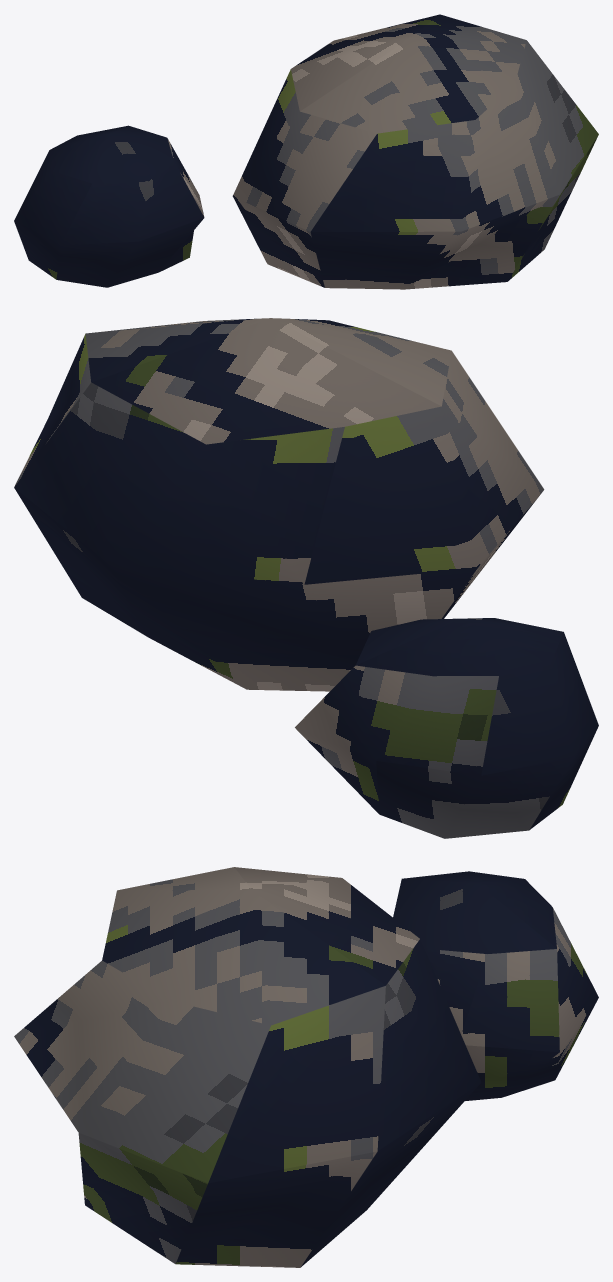
File: cave.boulder.glb
3 renders of one model, top to bottom at view 1: azimuth 30°, elevation 25°; view 2: azimuth 150°, elevation 25°; view 3: azimuth 270°, elevation 25°, orthographic. The views are drawn at different scales.
Parts seen in each view (by area): view 1: kit_boulders; view 2: kit_boulders; view 3: kit_boulders.
Part boxes in pixels (left/top/right/bottom): kit_boulders: left=14, top=14, right=598, bottom=289; kit_boulders: left=14, top=318, right=598, bottom=838; kit_boulders: left=14, top=867, right=598, bottom=1267.
Size of the model in its own units: 2.15 by 0.9835 by 1.64.
Materials: 1 (1 with a texture image).
